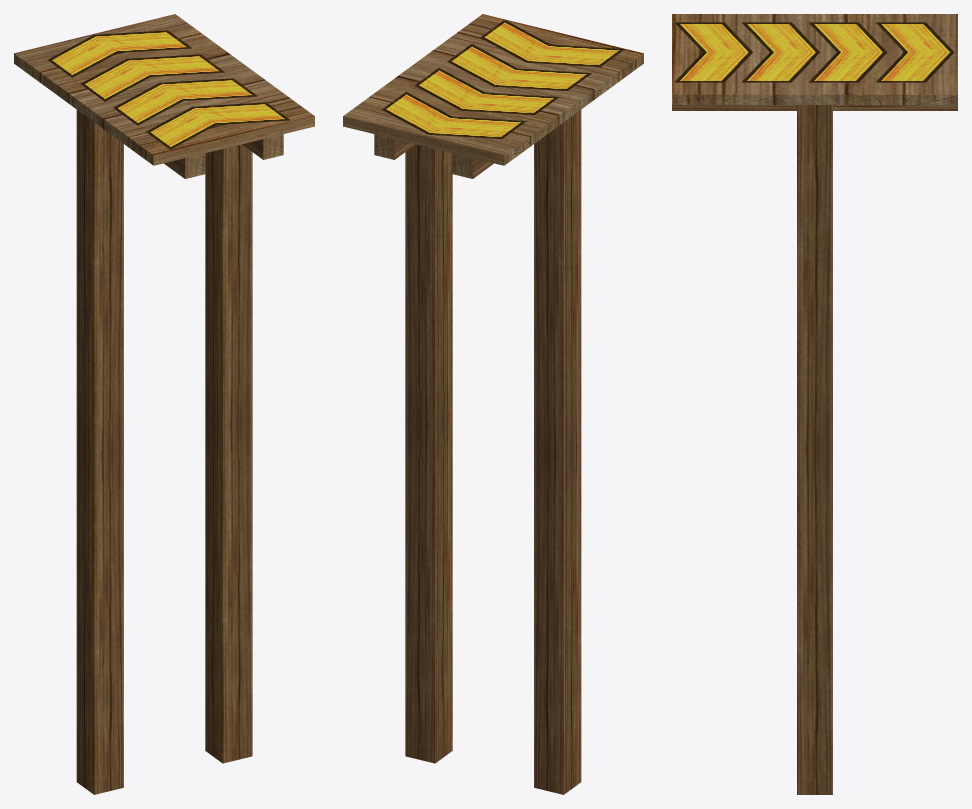
The model's file is Low_JumpAscent.FBX.
The picture shows the model from 3 angles, left to right: view 1: azimuth 30°, elevation 25°; view 2: azimuth 150°, elevation 25°; view 3: azimuth 270°, elevation 25°; orthographic projection. The views are drawn at different scales.
Visible parts, largest first — view 1: poles, Low_JumpAscent; view 2: poles, Low_JumpAscent; view 3: Low_JumpAscent, poles.
Part boxes in pixels (box(x1,y1,x2,y2)): poles: box(76, 110, 252, 794); Low_JumpAscent: box(14, 14, 314, 178); poles: box(405, 110, 581, 794); Low_JumpAscent: box(343, 14, 643, 178); Low_JumpAscent: box(672, 14, 957, 110); poles: box(797, 105, 832, 794).
Bounding box in the file's own units: 184 × 746 × 276.
